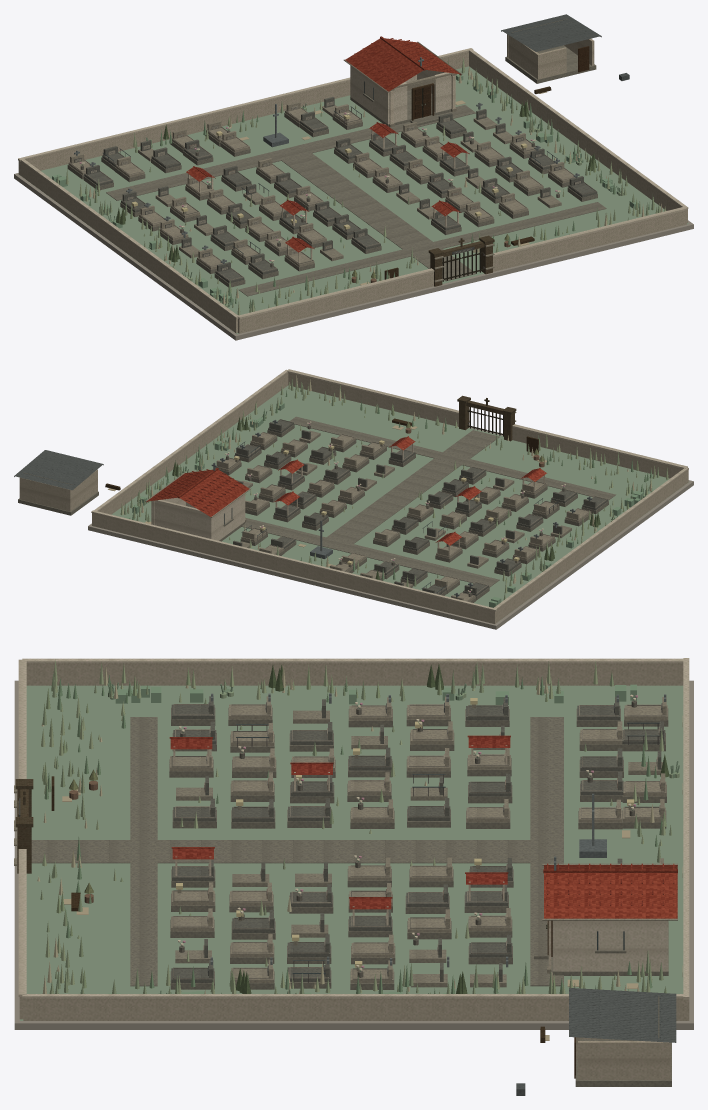
The model's file is EST02.gltf.
3 renders of one model, top to bottom at view 1: azimuth 30°, elevation 25°; view 2: azimuth 150°, elevation 25°; view 3: azimuth 270°, elevation 25°, orthographic. The views are drawn at different scales.
Visible parts, largest first — view 1: SOLO_gramado, TERRENO_base, MURO_norte, CAMINHO_principal, CAMINHO_travessa_frente, MURO_oeste, MURO_leste, CAMINHO_travessa_fundos, MURO_sul_esquerda, MURO_sul_direita, CAPELA_telhado_esq, APOIO_fibrocimento (+12 smaller); view 2: SOLO_gramado, MURO_norte, TERRENO_base, CAMINHO_principal, MURO_oeste, CAMINHO_travessa_fundos, MURO_leste, CAMINHO_travessa_frente, MURO_sul_direita, APOIO_fibrocimento, MURO_sul_esquerda, CAPELA_telhado_esq (+10 smaller); view 3: SOLO_gramado, MURO_oeste, MURO_leste, CAMINHO_principal, TERRENO_base, CAMINHO_travessa_frente, CAMINHO_travessa_fundos, CAPELA_telhado_dir, CAPELA_parede_direita, APOIO_fibrocimento, MURO_capa_oeste, APOIO_parede_leste (+5 smaller).
Part boxes in pixels (bbox=[...]): SOLO_gramado: bbox=[20, 66, 688, 333]; TERRENO_base: bbox=[14, 173, 693, 340]; MURO_norte: bbox=[18, 51, 468, 175]; CAMINHO_principal: bbox=[281, 153, 475, 281]; CAMINHO_travessa_frente: bbox=[238, 202, 606, 296]; MURO_oeste: bbox=[20, 161, 237, 333]; MURO_leste: bbox=[469, 51, 687, 223]; CAMINHO_travessa_fundos: bbox=[106, 105, 475, 200]; MURO_sul_esquerda: bbox=[238, 272, 433, 333]; MURO_sul_direita: bbox=[493, 210, 686, 271]; CAPELA_telhado_esq: bbox=[345, 38, 423, 91]; APOIO_fibrocimento: bbox=[501, 14, 601, 51]; SOLO_gramado: bbox=[112, 385, 689, 619]; MURO_norte: bbox=[92, 512, 496, 623]; TERRENO_base: bbox=[88, 427, 693, 629]; CAMINHO_principal: bbox=[326, 430, 499, 543]; MURO_oeste: bbox=[496, 469, 688, 622]; CAMINHO_travessa_fundos: bbox=[241, 517, 499, 587]; MURO_leste: bbox=[98, 372, 288, 514]; CAMINHO_travessa_frente: bbox=[289, 416, 615, 500]; MURO_sul_direita: bbox=[288, 373, 458, 426]; APOIO_fibrocimento: bbox=[14, 450, 103, 490]; MURO_sul_esquerda: bbox=[512, 427, 682, 478]; CAPELA_telhado_esq: bbox=[179, 469, 249, 516]; SOLO_gramado: bbox=[20, 685, 683, 1020]; MURO_oeste: bbox=[26, 663, 683, 685]; MURO_leste: bbox=[23, 998, 683, 1020]; CAMINHO_principal: bbox=[31, 840, 530, 863]; TERRENO_base: bbox=[14, 680, 693, 1029]; CAMINHO_travessa_frente: bbox=[130, 717, 157, 986]; CAMINHO_travessa_fundos: bbox=[530, 717, 563, 986]; CAPELA_telhado_dir: bbox=[544, 873, 677, 918]; CAPELA_parede_direita: bbox=[553, 920, 668, 971]; APOIO_fibrocimento: bbox=[569, 988, 676, 1042]; MURO_capa_oeste: bbox=[22, 658, 685, 663]; APOIO_parede_leste: bbox=[578, 1041, 666, 1079].
Size of the model in its own units: 45.01 by 5.07 by 31.03.
8 materials, 7 textured.
